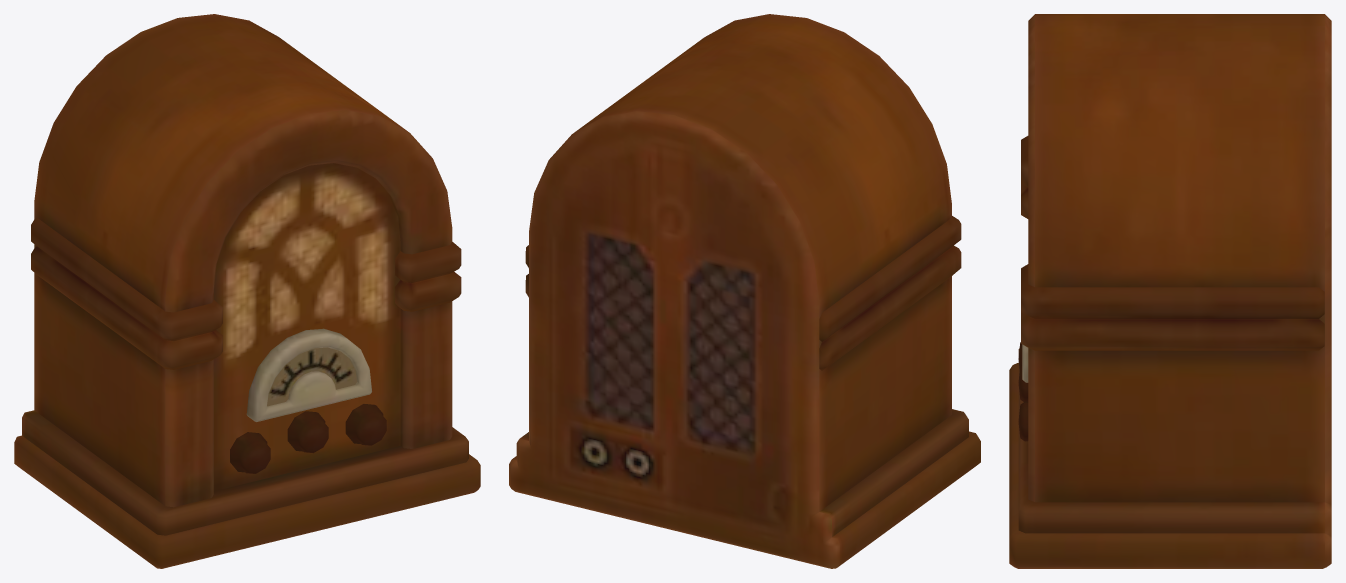
3 renders of one model, left to right at view 1: azimuth 30°, elevation 25°; view 2: azimuth 150°, elevation 25°; view 3: azimuth 270°, elevation 25°, orthographic. The views are drawn at different scales.
Size of the model in its own units: 4.54 by 5.44 by 3.51.
1 material, 1 textured.
